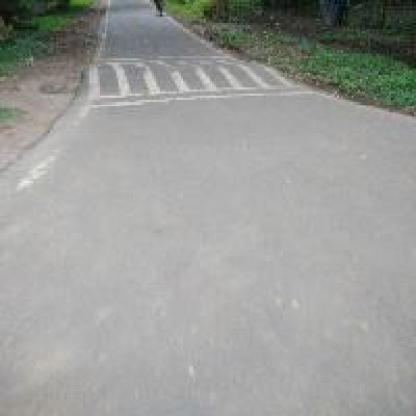Speed Bump: (83, 54, 285, 106)
